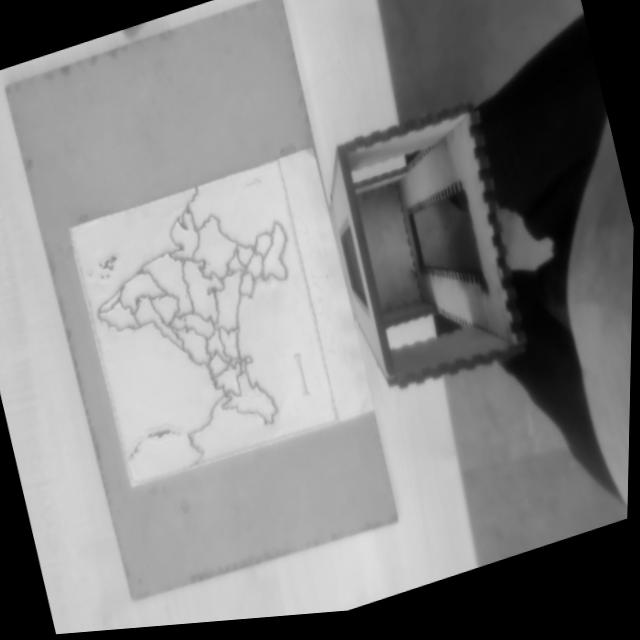map: (65, 160, 342, 487)
